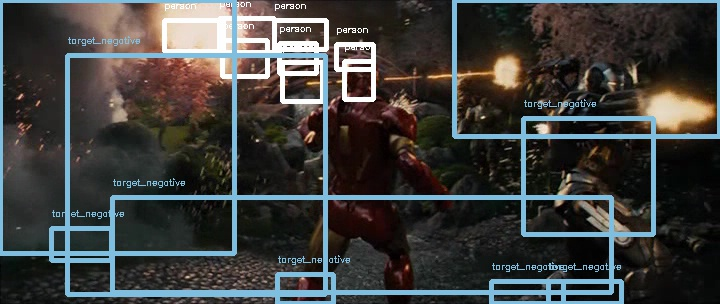person: (338, 48, 378, 93), (337, 48, 377, 93), (339, 48, 379, 93), (338, 47, 378, 92), (338, 49, 378, 94)
target_negative: (183, 188, 553, 265), (464, 161, 688, 279), (208, 15, 295, 211), (313, 114, 550, 162), (74, 220, 204, 289), (290, 41, 704, 58)
